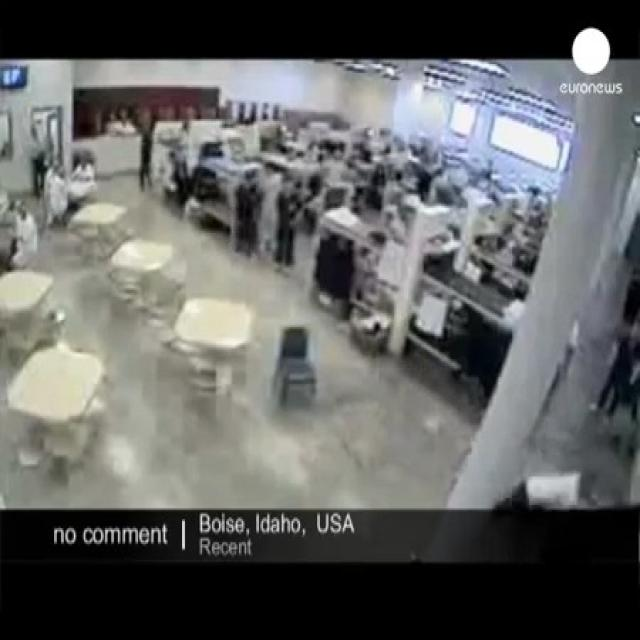fight: (520, 429, 611, 543)
